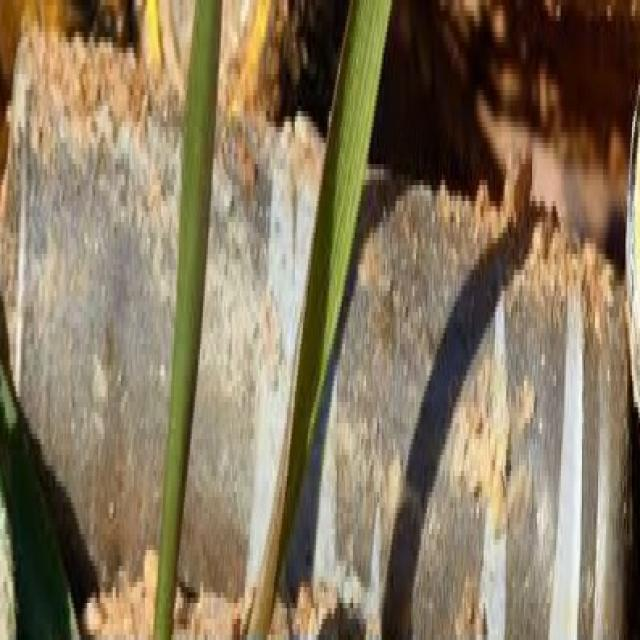battery: (12, 0, 640, 594)
